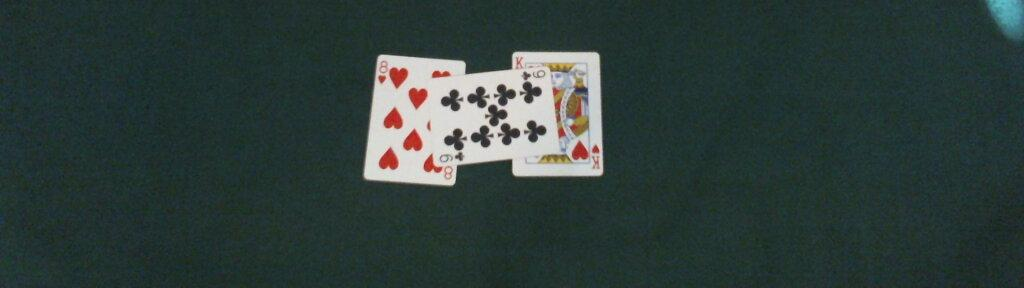eight: (364, 54, 465, 186)
king: (512, 51, 603, 177)
nine: (429, 67, 562, 167)
